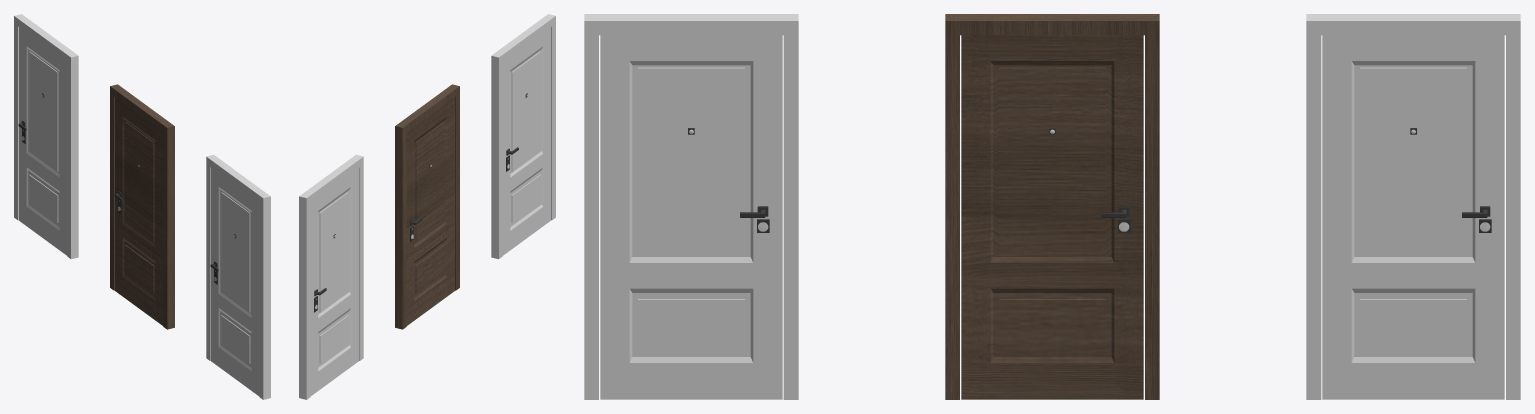
The model's file is door.fbx.
The picture shows the model from 3 angles, left to right: view 1: azimuth 30°, elevation 25°; view 2: azimuth 150°, elevation 25°; view 3: azimuth 270°, elevation 25°; orthographic projection. The views are drawn at different scales.
Visible parts, largest first — view 1: Cube, Cube.007, Cube.014, Cube.015, Cube.008, Cube.001; view 2: Cube.014, Cube, Cube.007, Cube.008, Cube.015, Cube.001; view 3: Cube.014, Cube, Cube.007, Cube.015, Cube.008, Cube.001.
Part boxes in pixels (bbox=[...]): Cube: bbox=[114, 97, 163, 325]; Cube.007: bbox=[210, 168, 259, 395]; Cube.014: bbox=[18, 27, 67, 255]; Cube.015: bbox=[14, 14, 78, 259]; Cube.008: bbox=[206, 154, 270, 399]; Cube.001: bbox=[110, 84, 174, 329]; Cube.014: bbox=[310, 168, 358, 395]; Cube: bbox=[406, 97, 454, 325]; Cube.007: bbox=[502, 27, 550, 255]; Cube.008: bbox=[491, 14, 555, 259]; Cube.015: bbox=[299, 154, 363, 399]; Cube.001: bbox=[395, 84, 459, 329]; Cube.014: bbox=[1322, 35, 1504, 399]; Cube: bbox=[961, 35, 1143, 399]; Cube.007: bbox=[600, 35, 782, 399]; Cube.015: bbox=[1306, 14, 1520, 399]; Cube.008: bbox=[584, 14, 798, 399]; Cube.001: bbox=[945, 14, 1159, 399].
Bounding box in the file's own units: 42.37 × 495 × 1109.
